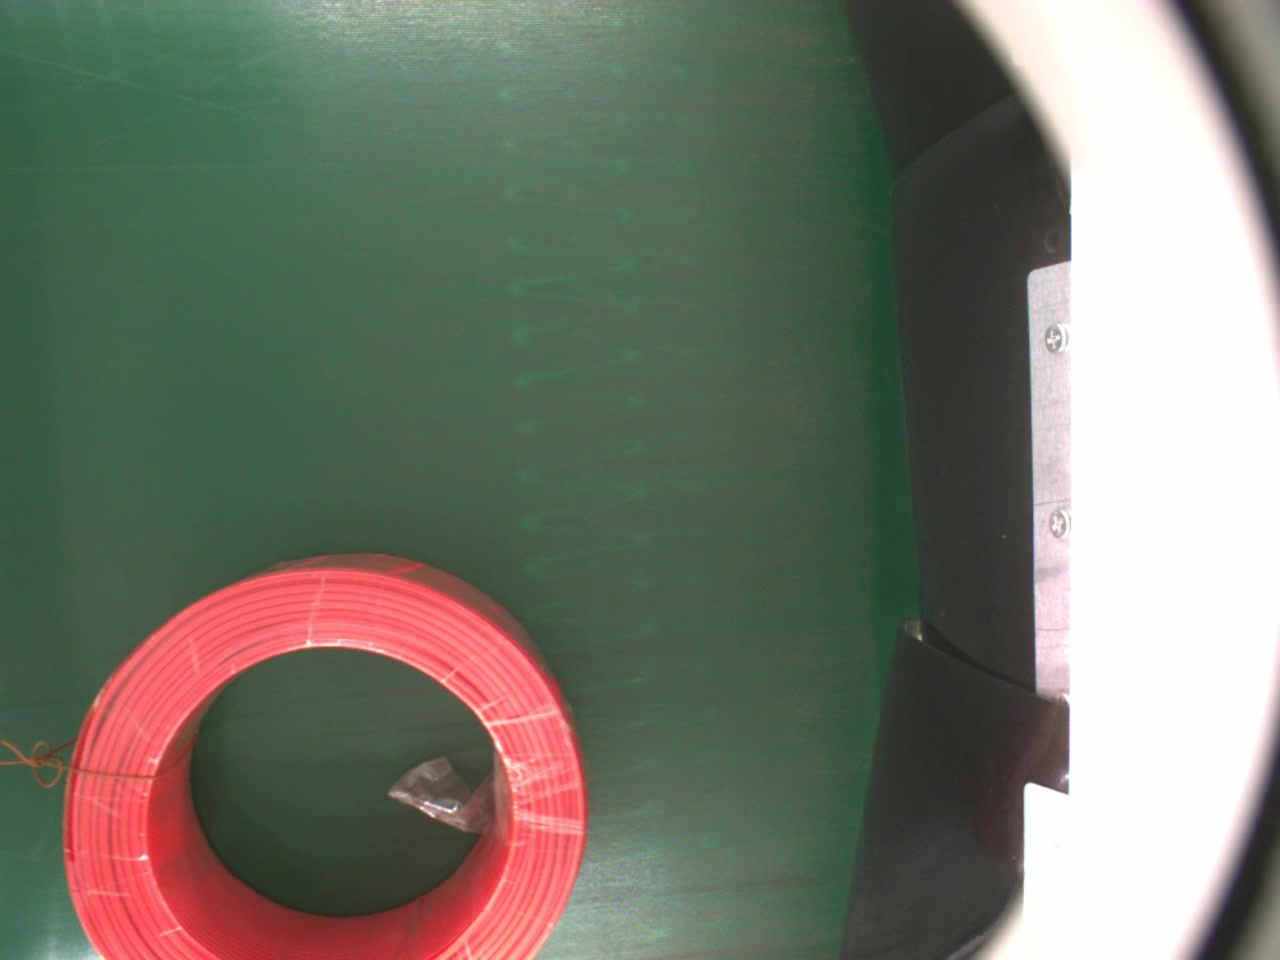red: (67, 550, 592, 960)
